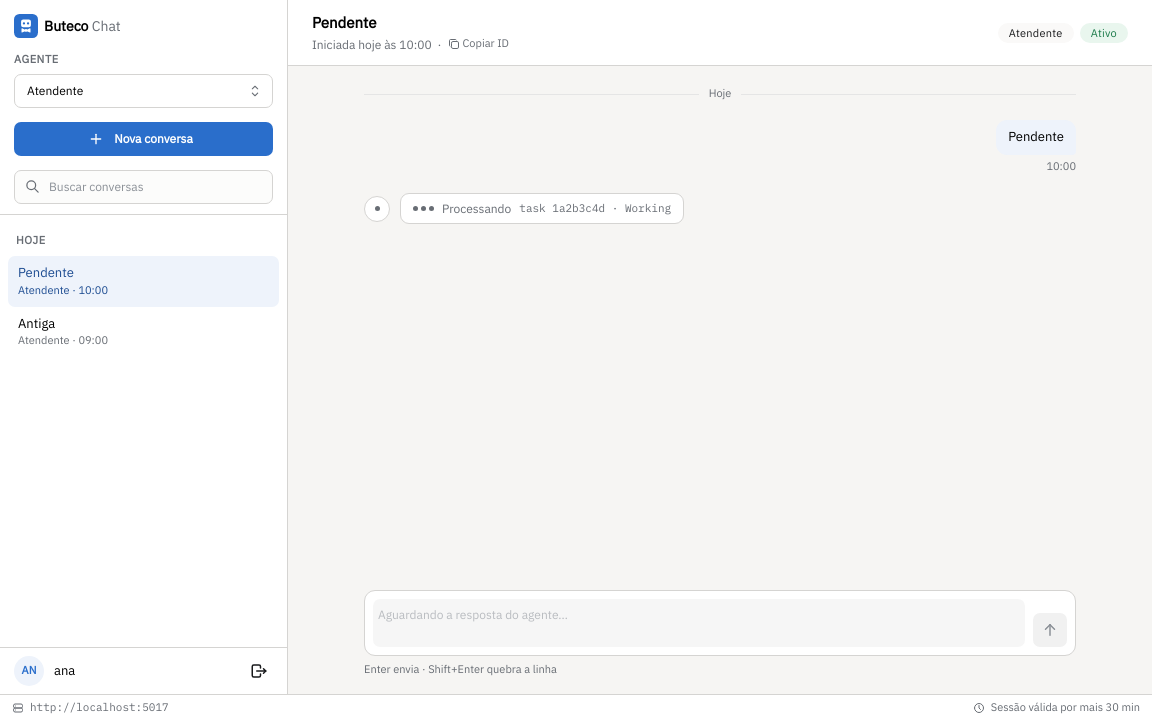
Test case: várias conversas › consulta em andamento descartada ao abrir outra conversa; o turno continua pendente
The width and height of the screenshot is (1152, 720).
Step 1. Click the button "Antiga Atendente · 09:00" → (37, 323), box [8,307,279,357]
Wait 3000 ms
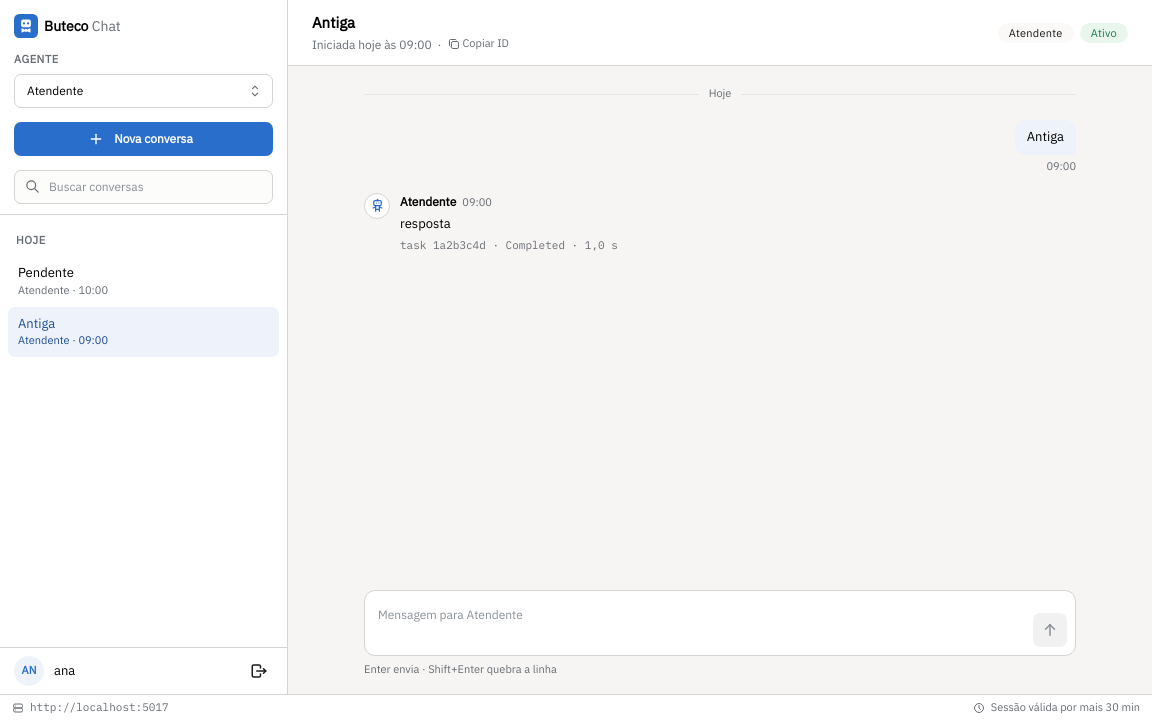
Step 2. Click the button "Pendente Atendente · 10:00" → (46, 272), box [8,256,279,307]
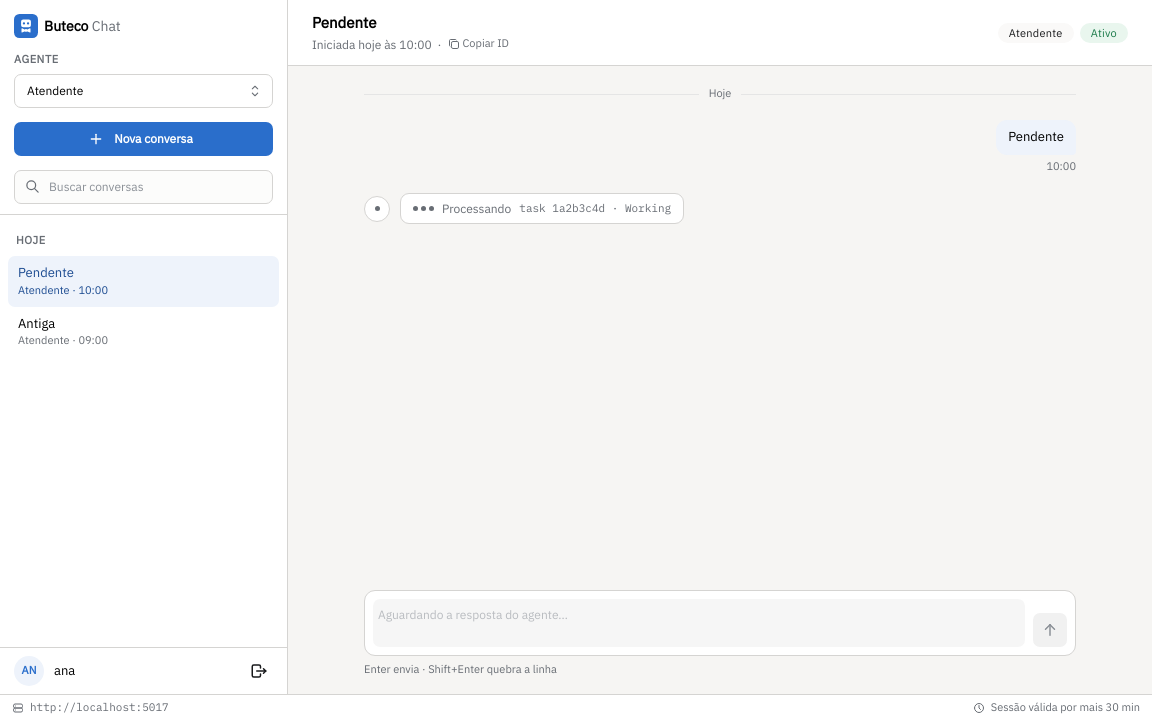
Expected: the message shows "Processando", [442,201,511,216]
